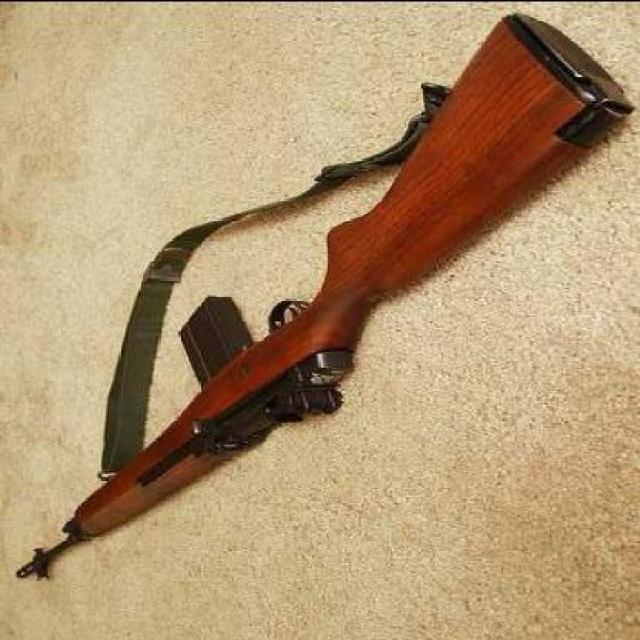rifle: (14, 11, 634, 581)
